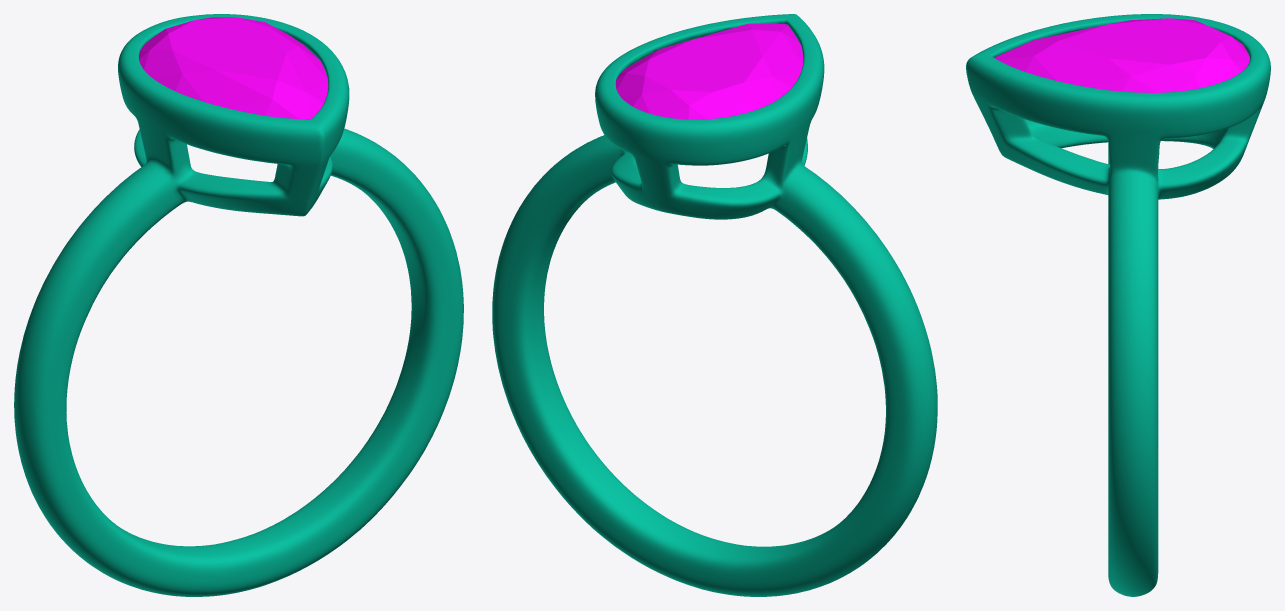
File: BE1798_PE_200ct_RENDER.glb
The picture shows the model from 3 angles, left to right: view 1: azimuth 30°, elevation 25°; view 2: azimuth 150°, elevation 25°; view 3: azimuth 270°, elevation 25°; orthographic projection.
Parts seen in each view (by area): view 1: Metal 01, CS_Diamond_Pear; view 2: Metal 01, CS_Diamond_Pear; view 3: Metal 01, CS_Diamond_Pear.
Part boxes in pixels (x1,y1,x2,y2): Metal 01: [14, 14, 463, 596]; CS_Diamond_Pear: [139, 17, 328, 119]; Metal 01: [492, 14, 937, 596]; CS_Diamond_Pear: [616, 23, 803, 119]; Metal 01: [966, 14, 1270, 596]; CS_Diamond_Pear: [994, 18, 1249, 92].
Size of the model in its own units: 20.3 by 23.56 by 12.24.
